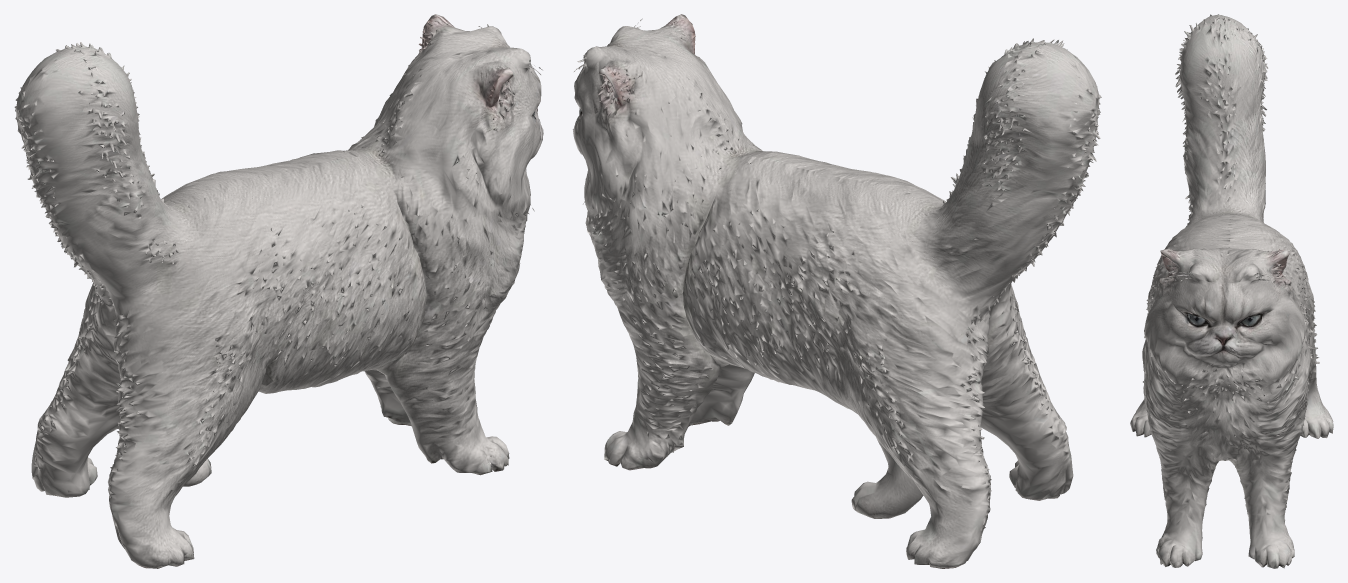
Rendered from BLOFELDCAT.glb.
The picture shows the model from 3 angles, left to right: view 1: azimuth 30°, elevation 25°; view 2: azimuth 150°, elevation 25°; view 3: azimuth 270°, elevation 25°; orthographic projection. The views are drawn at different scales.
Parts seen in each view (by area): view 1: tripo_node_91df6295-6c2c-467b-99b2-24e003c50246; view 2: tripo_node_91df6295-6c2c-467b-99b2-24e003c50246; view 3: tripo_node_91df6295-6c2c-467b-99b2-24e003c50246.
Part boxes in pixels (x1,y1,x2,y2): tripo_node_91df6295-6c2c-467b-99b2-24e003c50246: [14, 14, 543, 568]; tripo_node_91df6295-6c2c-467b-99b2-24e003c50246: [572, 14, 1101, 568]; tripo_node_91df6295-6c2c-467b-99b2-24e003c50246: [1130, 14, 1333, 568].
Bounding box in the file's own units: 1.1 × 0.9977 × 0.4638.
Materials: 1 (1 with a texture image).
